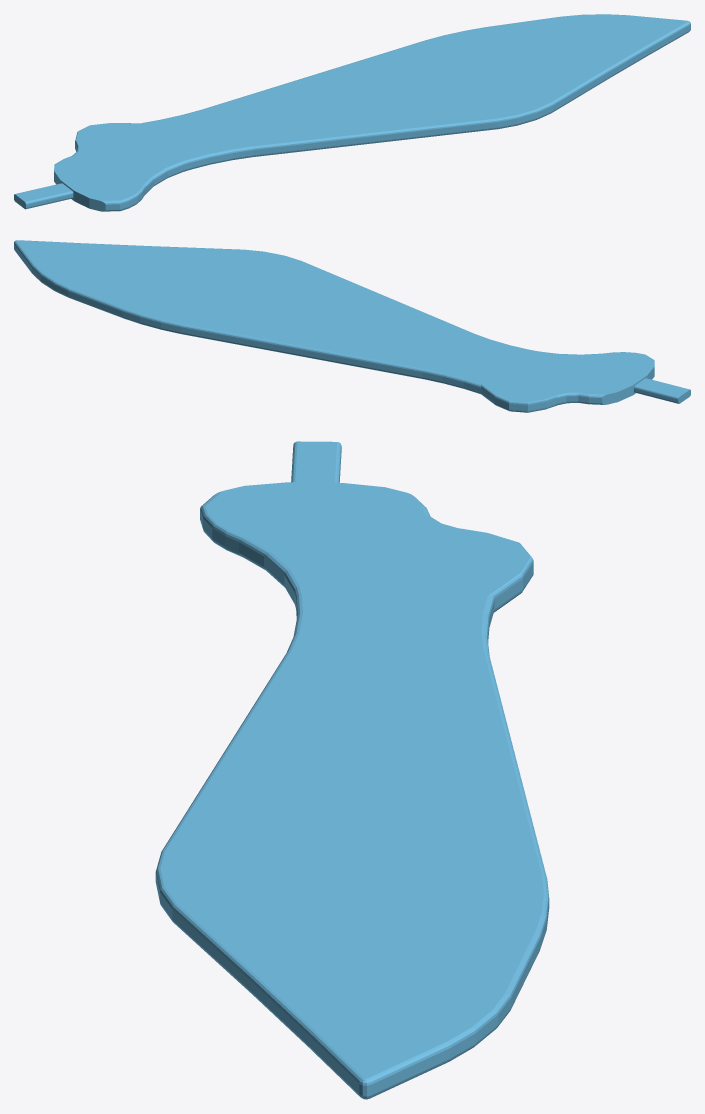
The model's file is TWingsR.fbx.
3 renders of one model, top to bottom at view 1: azimuth 30°, elevation 25°; view 2: azimuth 150°, elevation 25°; view 3: azimuth 270°, elevation 25°, orthographic. The views are drawn at different scales.
Visible parts, largest first — view 1: TWings.R; view 2: TWings.R; view 3: TWings.R.
Boxes of the visible parts, <box> form: TWings.R: <box>14,14,690,211</box>; TWings.R: <box>14,240,690,412</box>; TWings.R: <box>155,441,549,1099</box>.
Bounding box in the file's own units: 1008 × 14.83 × 261.
